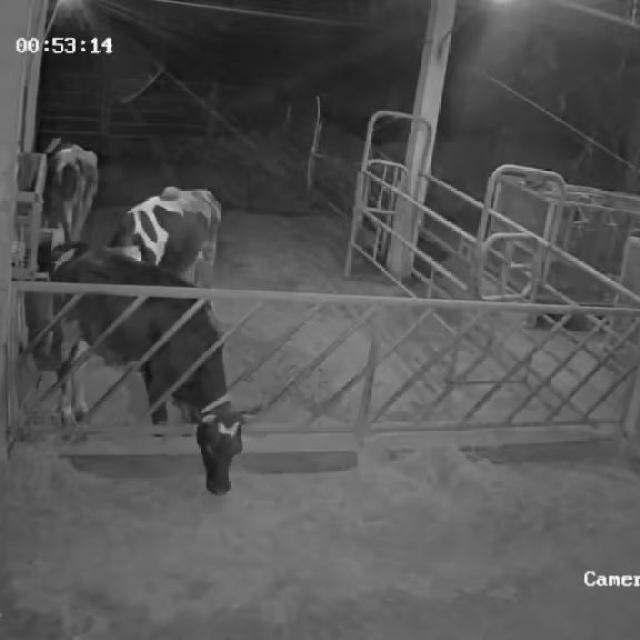feeding: (49, 243, 250, 502)
standing: (116, 191, 222, 306), (40, 132, 99, 254)
